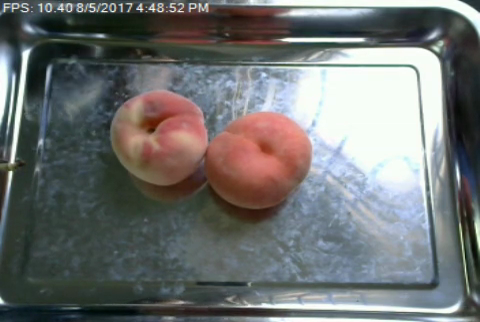Peach: (202, 111, 313, 208), (110, 88, 209, 186)
